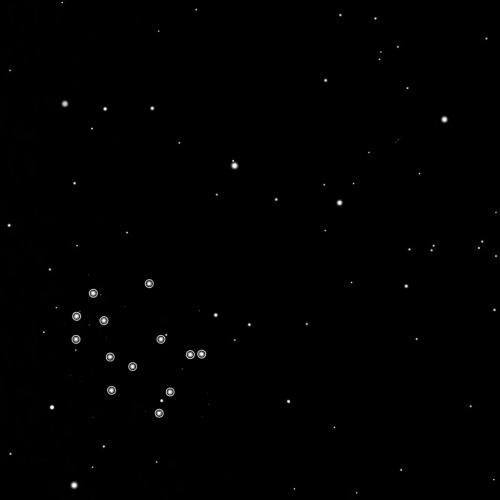gemini: (67, 277, 209, 421)
